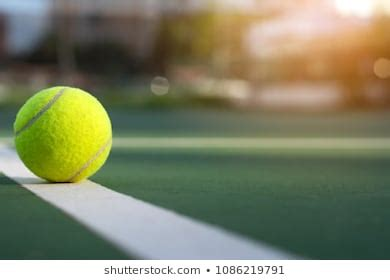tennis_ball: (13, 86, 113, 184)
